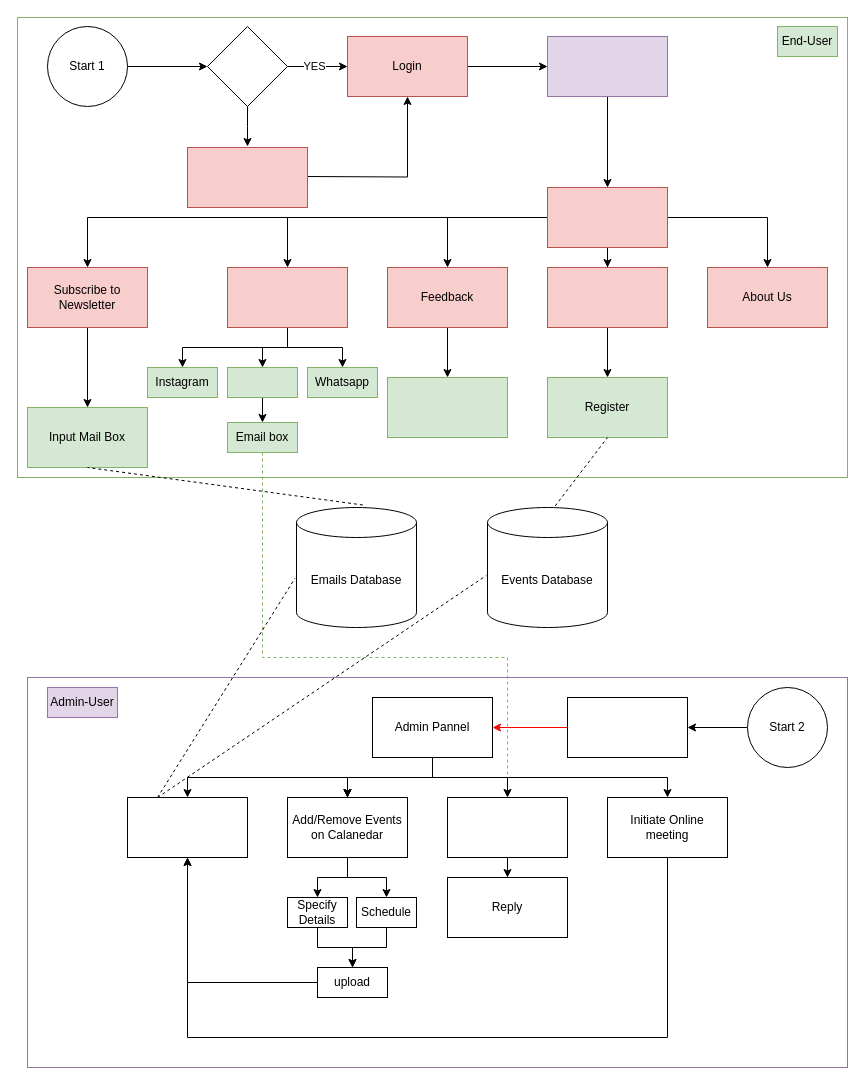
Image size: 865x1085. Some labels were removed from this diagram. Here are the shapes that lost their labels. From the top down, the centre of each, then its label:
the point at 247,66: Existing User?
the point at 607,66: Authenticator
the point at 247,177: Signup
the point at 607,217: Homepage
the point at 287,297: Contact Us
the point at 607,297: Events
the point at 262,382: Email
the point at 447,407: Feedback box
the point at 627,727: Login with admin credentials
the point at 187,827: Broadcast News/Events
the point at 507,827: Manage Received Mail
